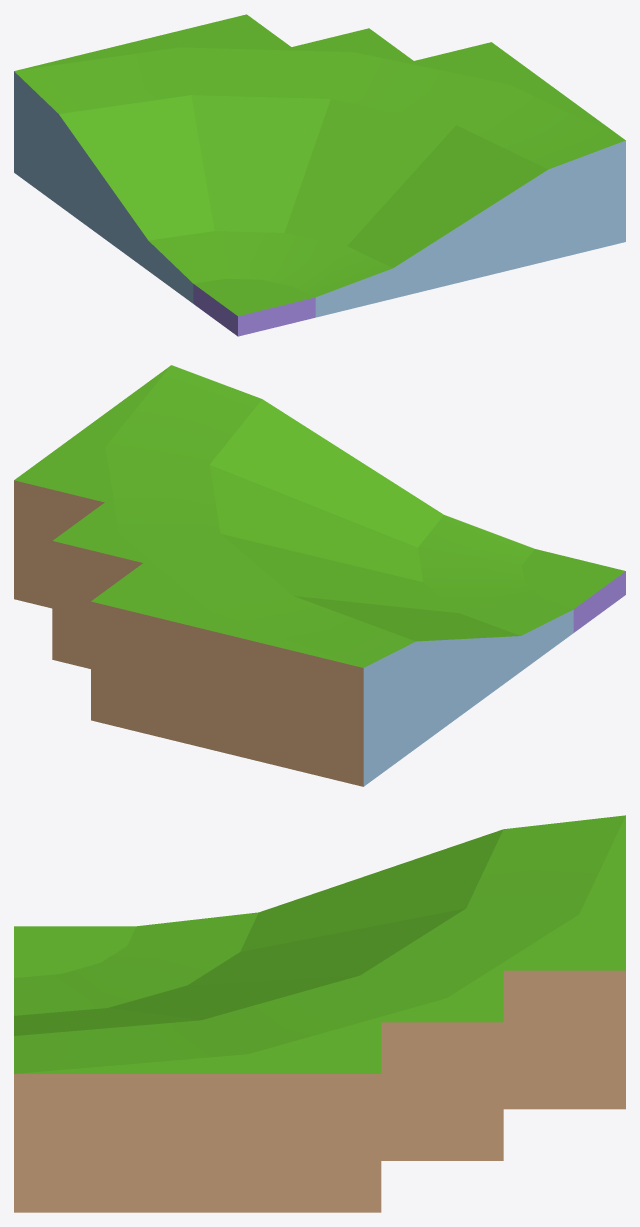
Rendered from Grass_Hill_Gentle_Curve_Inner_4x4.glb.
3 renders of one model, top to bottom at view 1: azimuth 30°, elevation 25°; view 2: azimuth 150°, elevation 25°; view 3: azimuth 270°, elevation 25°, orthographic. The views are drawn at different scales.
Visible parts, largest first — view 1: Grass_Hill_Gentle_Curve_Inner_4x4; view 2: Grass_Hill_Gentle_Curve_Inner_4x4; view 3: Grass_Hill_Gentle_Curve_Inner_4x4.
Part boxes in pixels (<box>): Grass_Hill_Gentle_Curve_Inner_4x4: <box>14,14,625,336</box>; Grass_Hill_Gentle_Curve_Inner_4x4: <box>14,365,625,786</box>; Grass_Hill_Gentle_Curve_Inner_4x4: <box>14,815,625,1212</box>.
Bounding box in the file's own units: 500 × 125 × 500.
